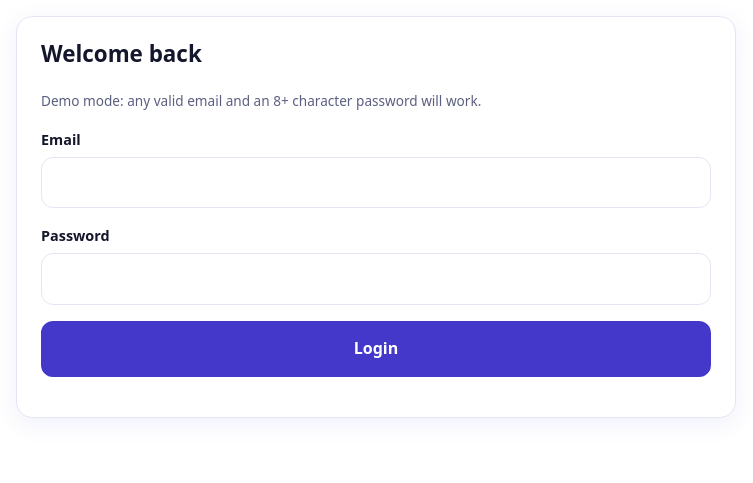
Scenario: Login form › shows "Login successful" with valid input
Type "ali@example.com" into the field labelled "Email".
click(376, 182); type("ali@example.com")  # box [41,157,711,208]
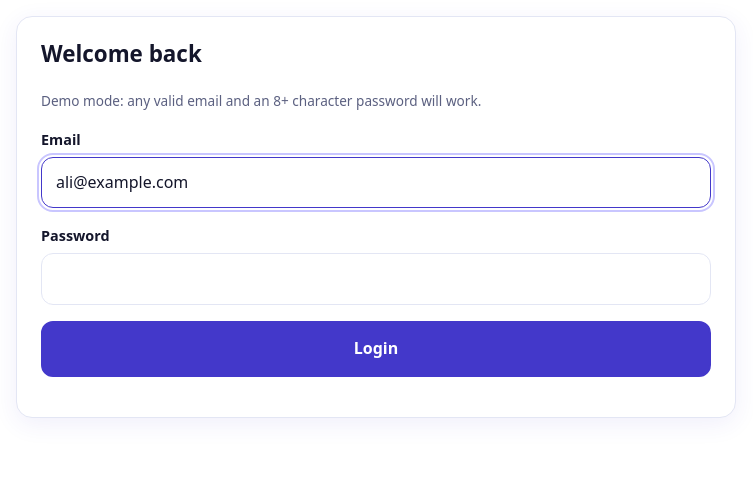
Type "password123" into the password field labelled "Password".
click(376, 279); type("password123")  # box [41,253,711,305]
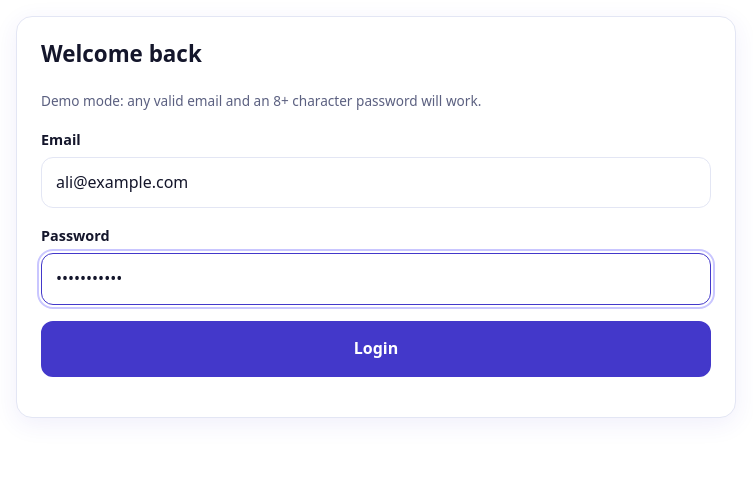
Click the button "Login".
click(376, 349)  # box [41,321,711,376]
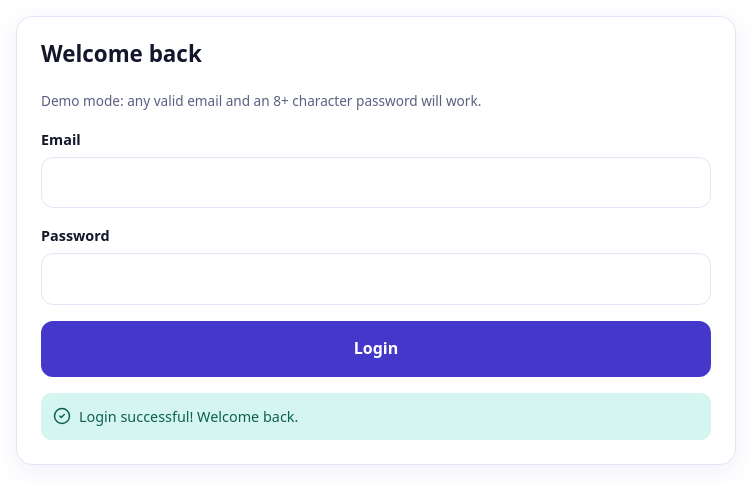
Expected: the text "Login successful! Welcome back." is shown, [41,392,711,440]
